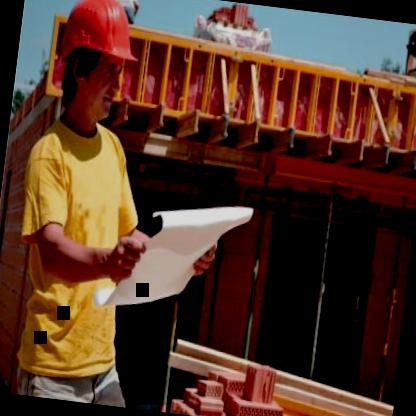helmet: (39, 0, 145, 139)
